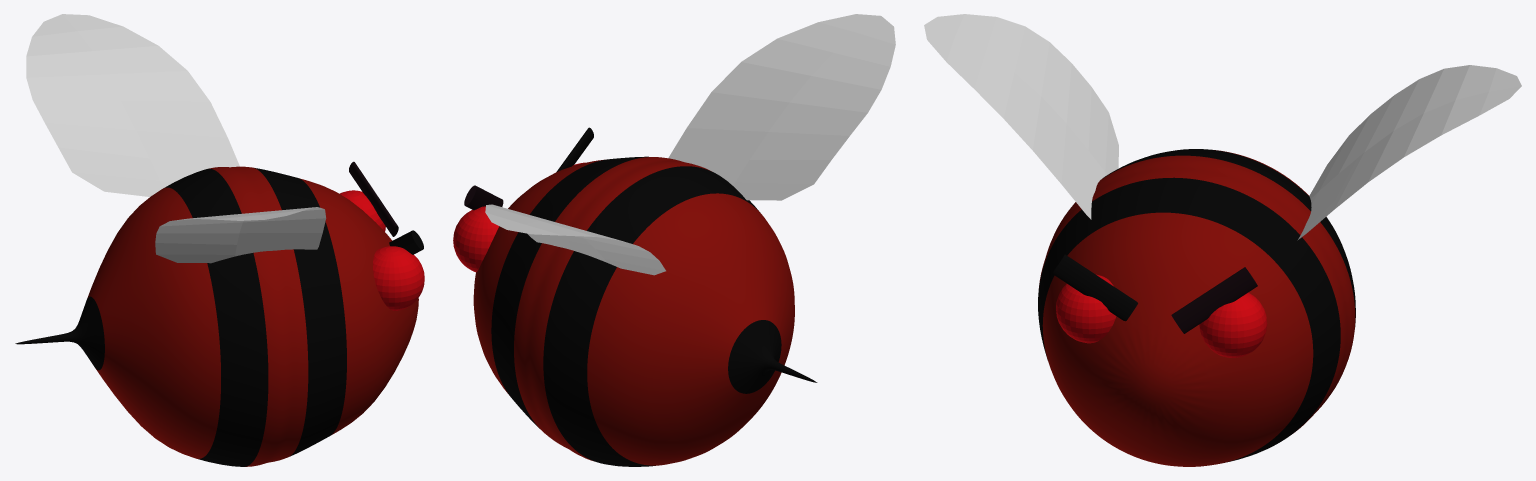
File: mad_bee.fbx
3 views of the same model, side by side, from view 1: azimuth 30°, elevation 25°; view 2: azimuth 150°, elevation 25°; view 3: azimuth 270°, elevation 25° (orthographic). The views are drawn at different scales.
Visible parts, largest first — view 1: Cylinder, Plane.003, Plane, Sphere, Cylinder.002, Cylinder.001; view 2: Cylinder, Plane, Plane.003, Sphere, Cylinder.002, Cylinder.001; view 3: Cylinder, Plane, Plane.003, Sphere, Cylinder.001, Cylinder.002.
Part boxes in pixels (x1=…): Cylinder: x1=15, y1=166, x2=418, y2=466; Plane.003: x1=26, y1=14, x2=239, y2=196; Plane: x1=155, y1=207, x2=326, y2=263; Sphere: x1=339, y1=190, x2=424, y2=310; Cylinder.002: x1=349, y1=161, x2=398, y2=236; Cylinder.001: x1=389, y1=230, x2=423, y2=254; Cylinder: x1=473, y1=156, x2=817, y2=466; Plane: x1=668, y1=14, x2=895, y2=200; Plane.003: x1=485, y1=204, x2=665, y2=275; Sphere: x1=453, y1=162, x2=584, y2=272; Cylinder.002: x1=464, y1=185, x2=503, y2=210; Cylinder.001: x1=556, y1=127, x2=593, y2=171; Cylinder: x1=1038, y1=149, x2=1355, y2=466; Plane: x1=924, y1=14, x2=1118, y2=219; Plane.003: x1=1297, y1=65, x2=1521, y2=240; Sphere: x1=1056, y1=274, x2=1267, y2=357; Cylinder.001: x1=1052, y1=254, x2=1137, y2=321; Cylinder.002: x1=1171, y1=267, x2=1257, y2=333.
Bounding box in the file's own units: 70.71 × 66.65 × 96.5.
